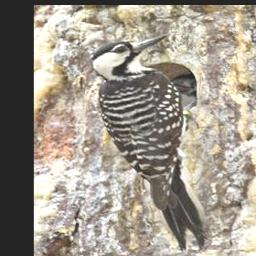Woodpecker: (90, 34, 209, 252)
